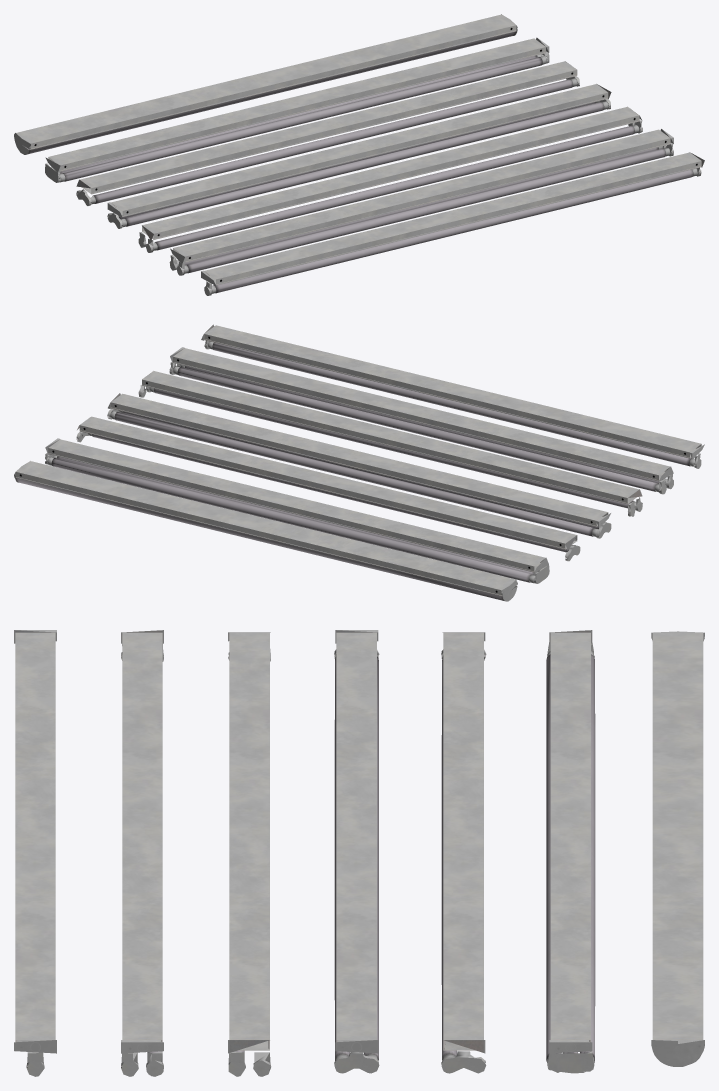
Rendered from FluorescentBatten.obj.
The picture shows the model from 3 angles, top to bottom: view 1: azimuth 30°, elevation 25°; view 2: azimuth 150°, elevation 25°; view 3: azimuth 270°, elevation 25°; orthographic projection. The views are drawn at different scales.
Visible parts, largest first — view 1: Fitting, Tube; view 2: Fitting, Tube; view 3: Fitting, Tube.
Boxes of the visible parts, bbox=[...] form: Fitting: bbox=[14, 14, 704, 295]; Tube: bbox=[25, 31, 693, 293]; Fitting: bbox=[14, 324, 704, 601]; Tube: bbox=[15, 342, 691, 600]; Fitting: bbox=[14, 630, 704, 1076]; Tube: bbox=[147, 654, 595, 1062].
Size of the model in its own units: 0.9122 by 0.0354 by 0.6454.
Materials: 2 (2 with a texture image).
